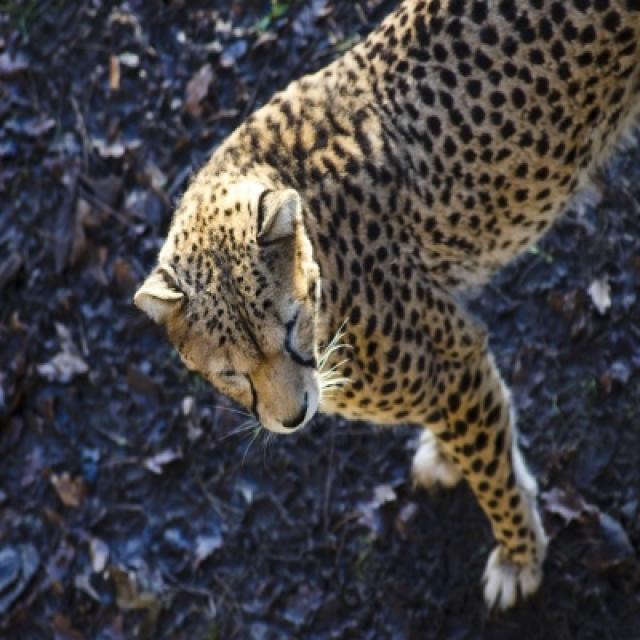Cheetah: (133, 0, 638, 614)
